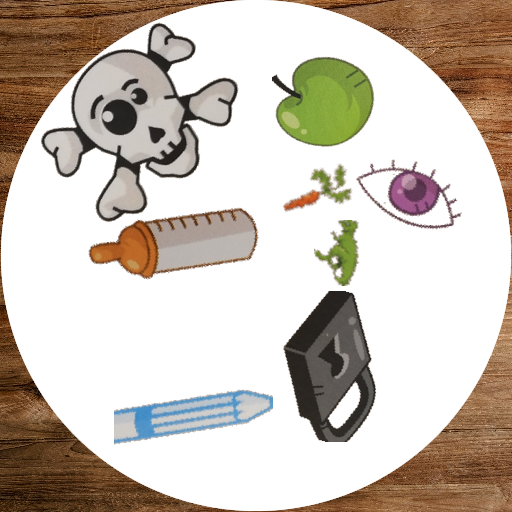apple_icon: (272, 54, 379, 161)
bottle_icon: (87, 155, 262, 330)
carrot_icon: (282, 158, 359, 235)
dino_icon: (314, 220, 380, 286)
eye_icon: (354, 141, 464, 251)
lock_icon: (260, 291, 411, 442)
pen_icon: (114, 336, 273, 495)
skull_icon: (28, 2, 254, 228)
